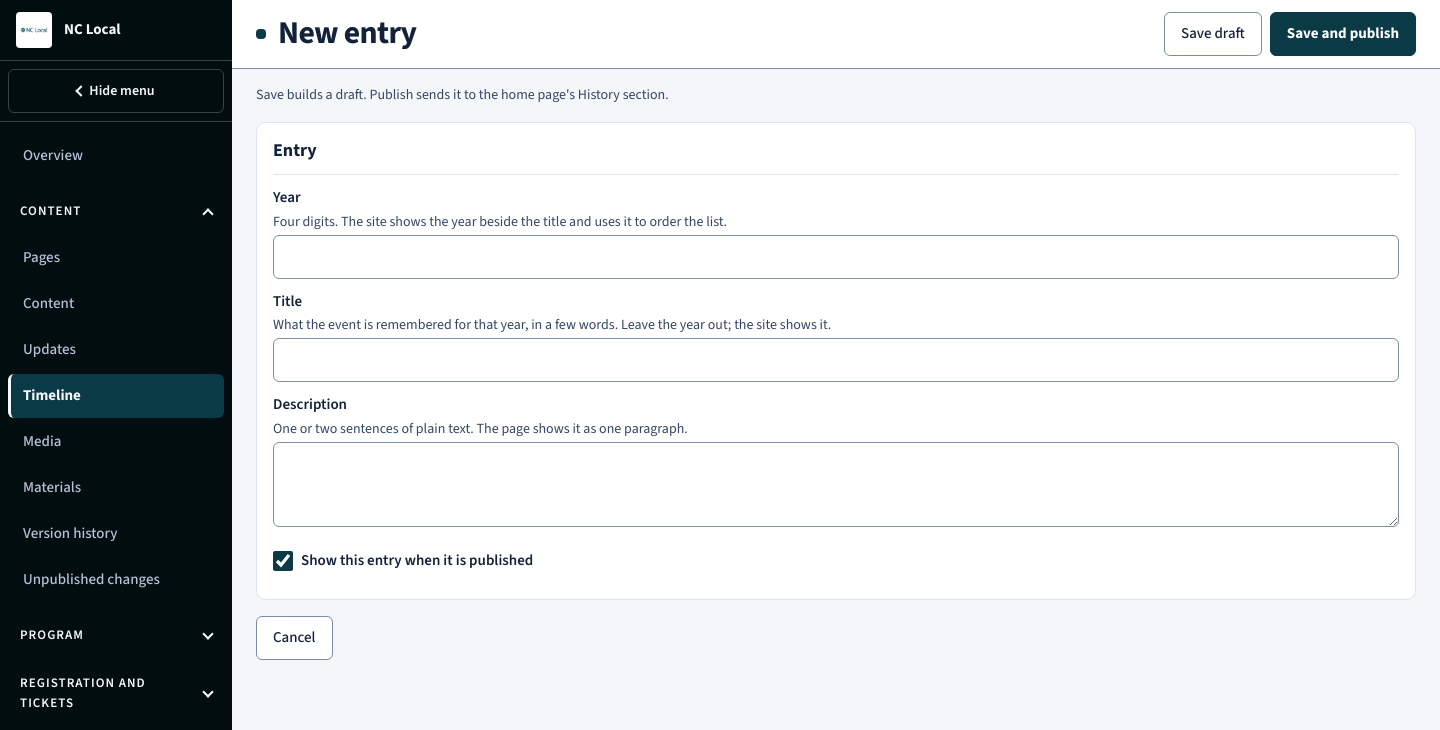
Test case: the timeline entry editor › creates a draft under a new UUID, and publishes nothing
Expected: the heading "New entry" is shown, [278, 15, 416, 53]
Type "2023" into the field labelled "Year". click: (836, 257)
box: [273, 235, 1399, 279]
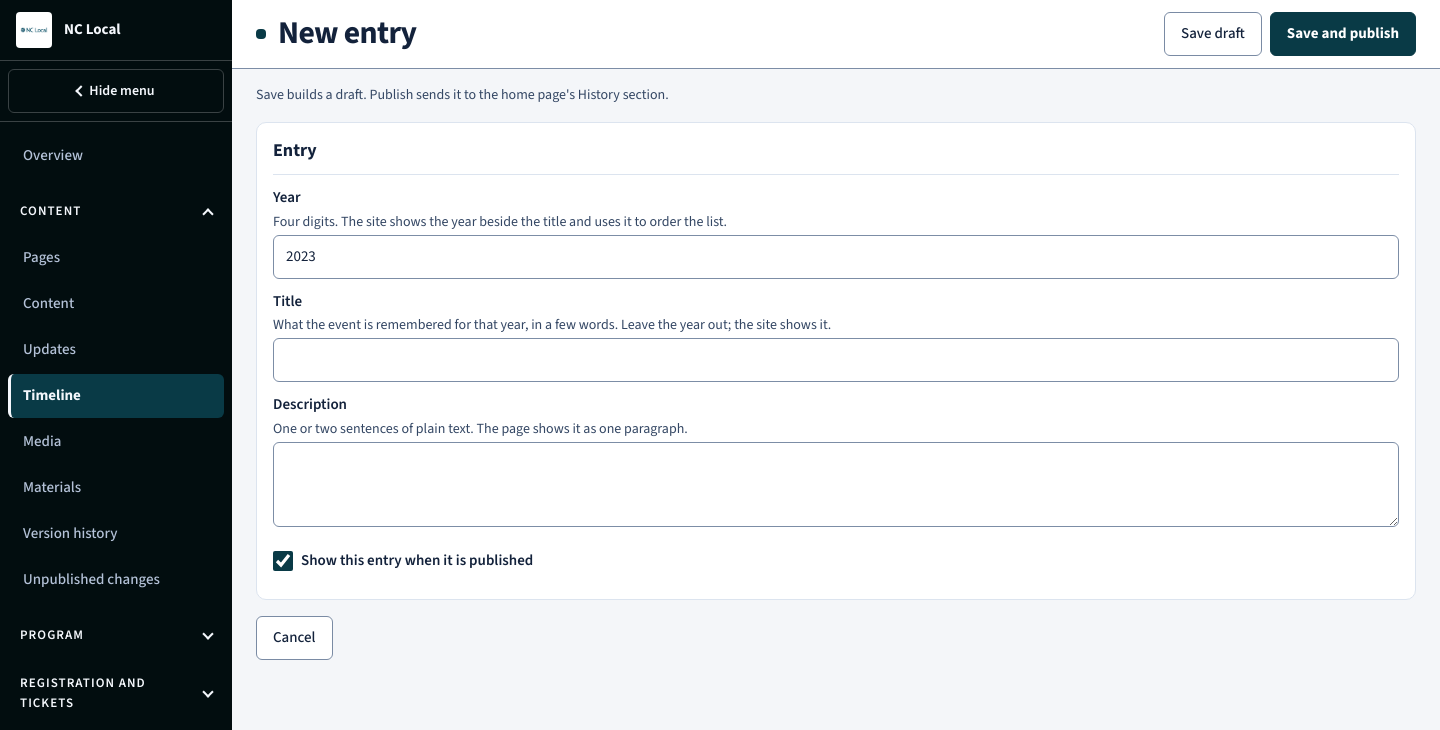
Type "A new edition" into the field labelled "Title". click: (836, 360)
box: [273, 338, 1399, 382]
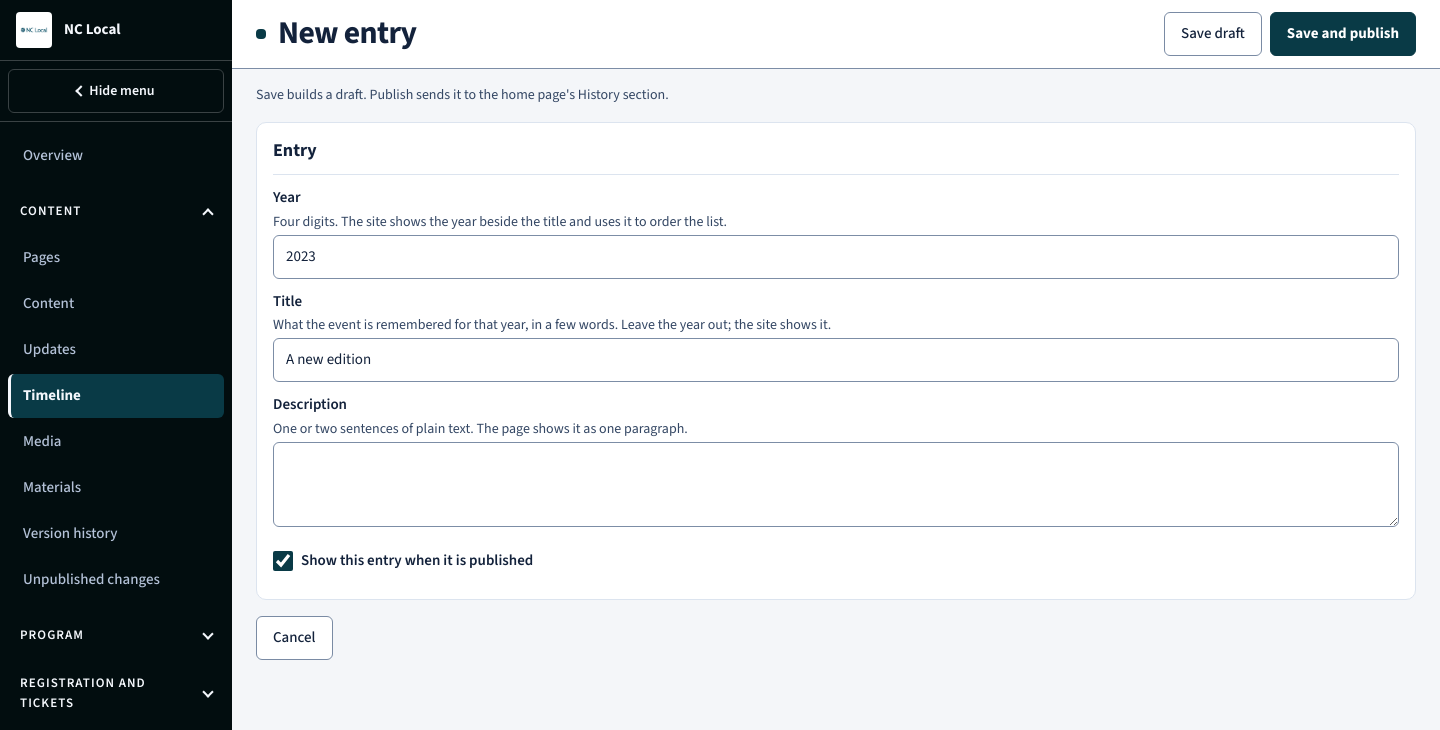
Type "  One day of talks.  " into the text box labelled "Description". click: (836, 485)
box: [273, 442, 1399, 527]
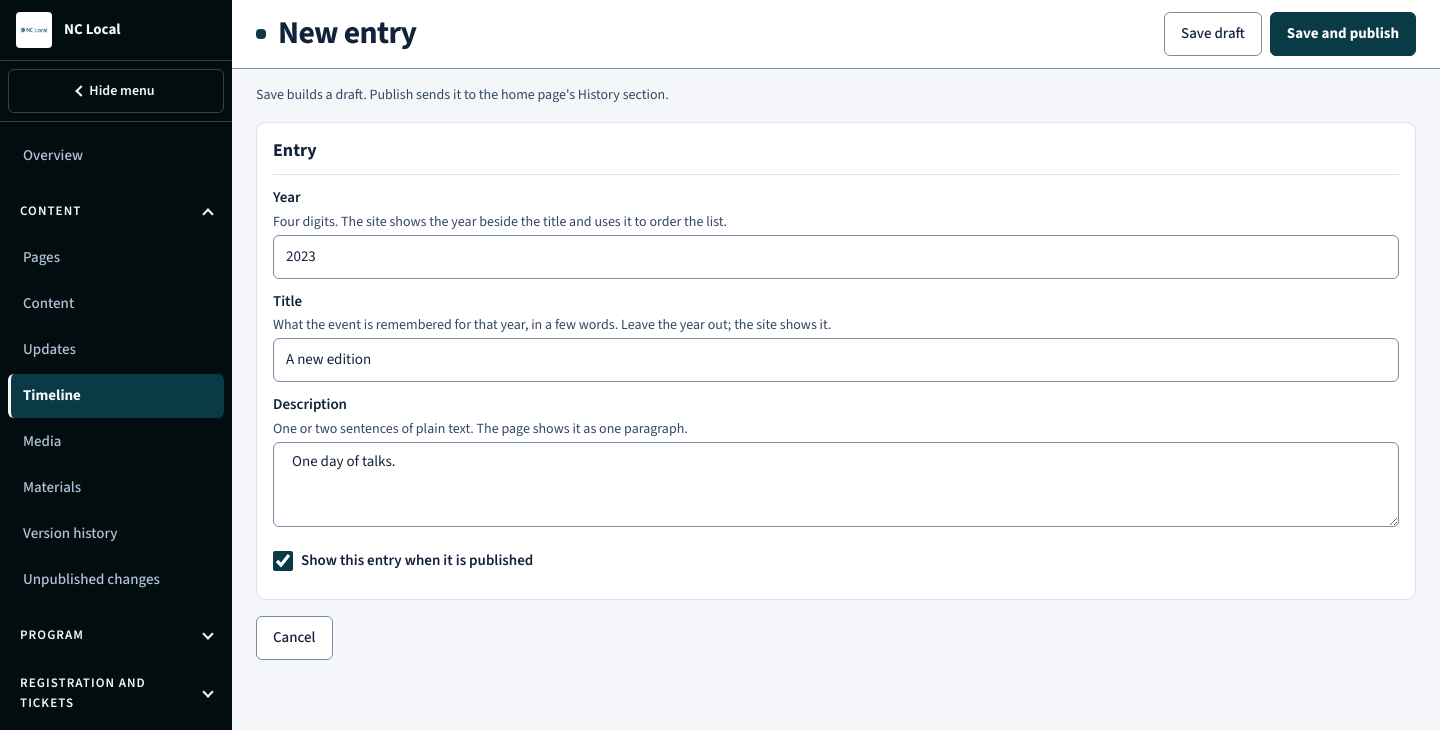
Click the button "Save draft". click: click(1213, 34)
box: [1164, 12, 1262, 56]
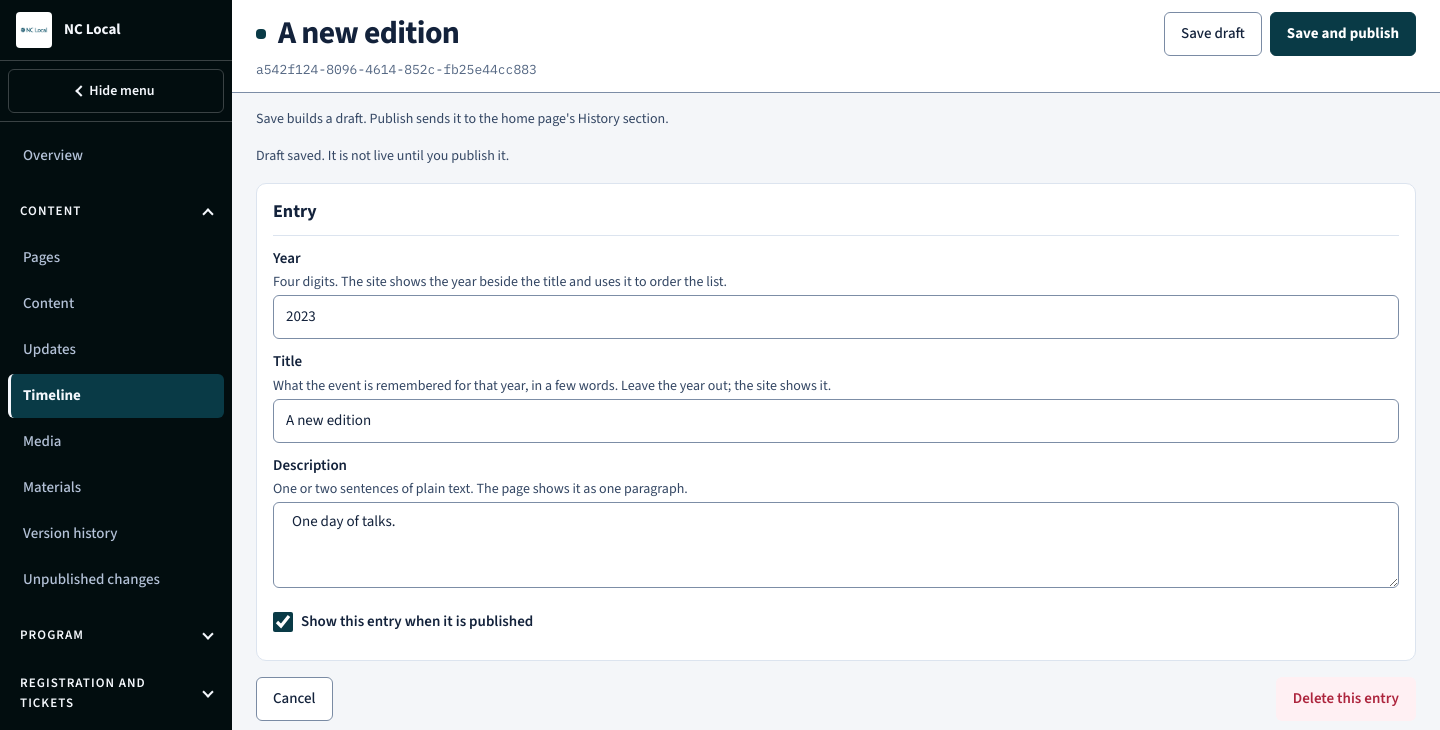
Expected: the heading "A new edition" is shown, [278, 15, 459, 53]
